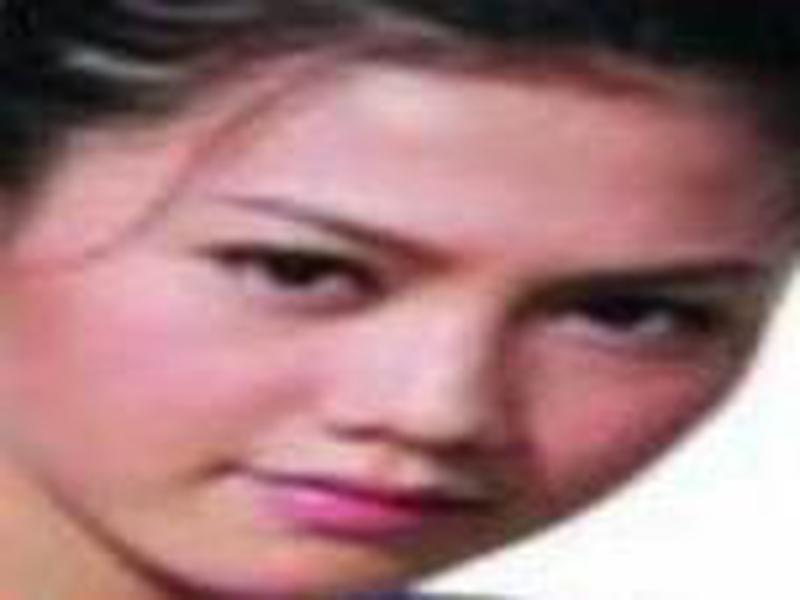without_mask: (53, 53, 783, 591)
